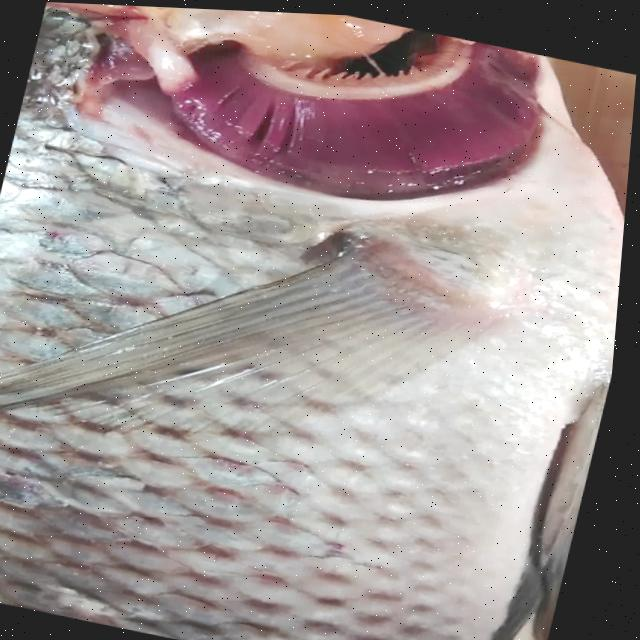Fresh: (112, 4, 596, 237)
